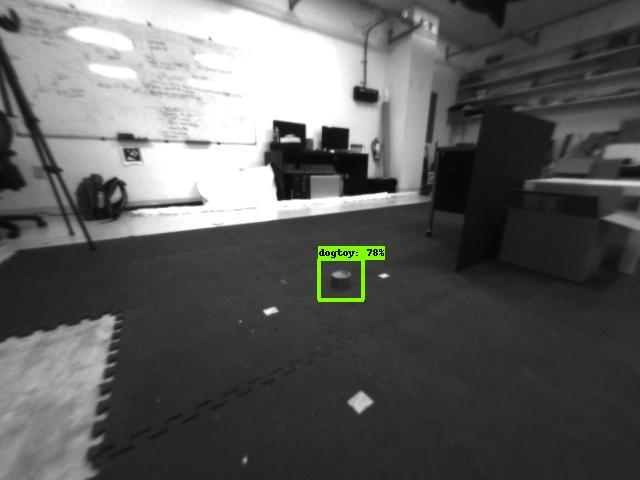dogtoy: (319, 257, 365, 304)
